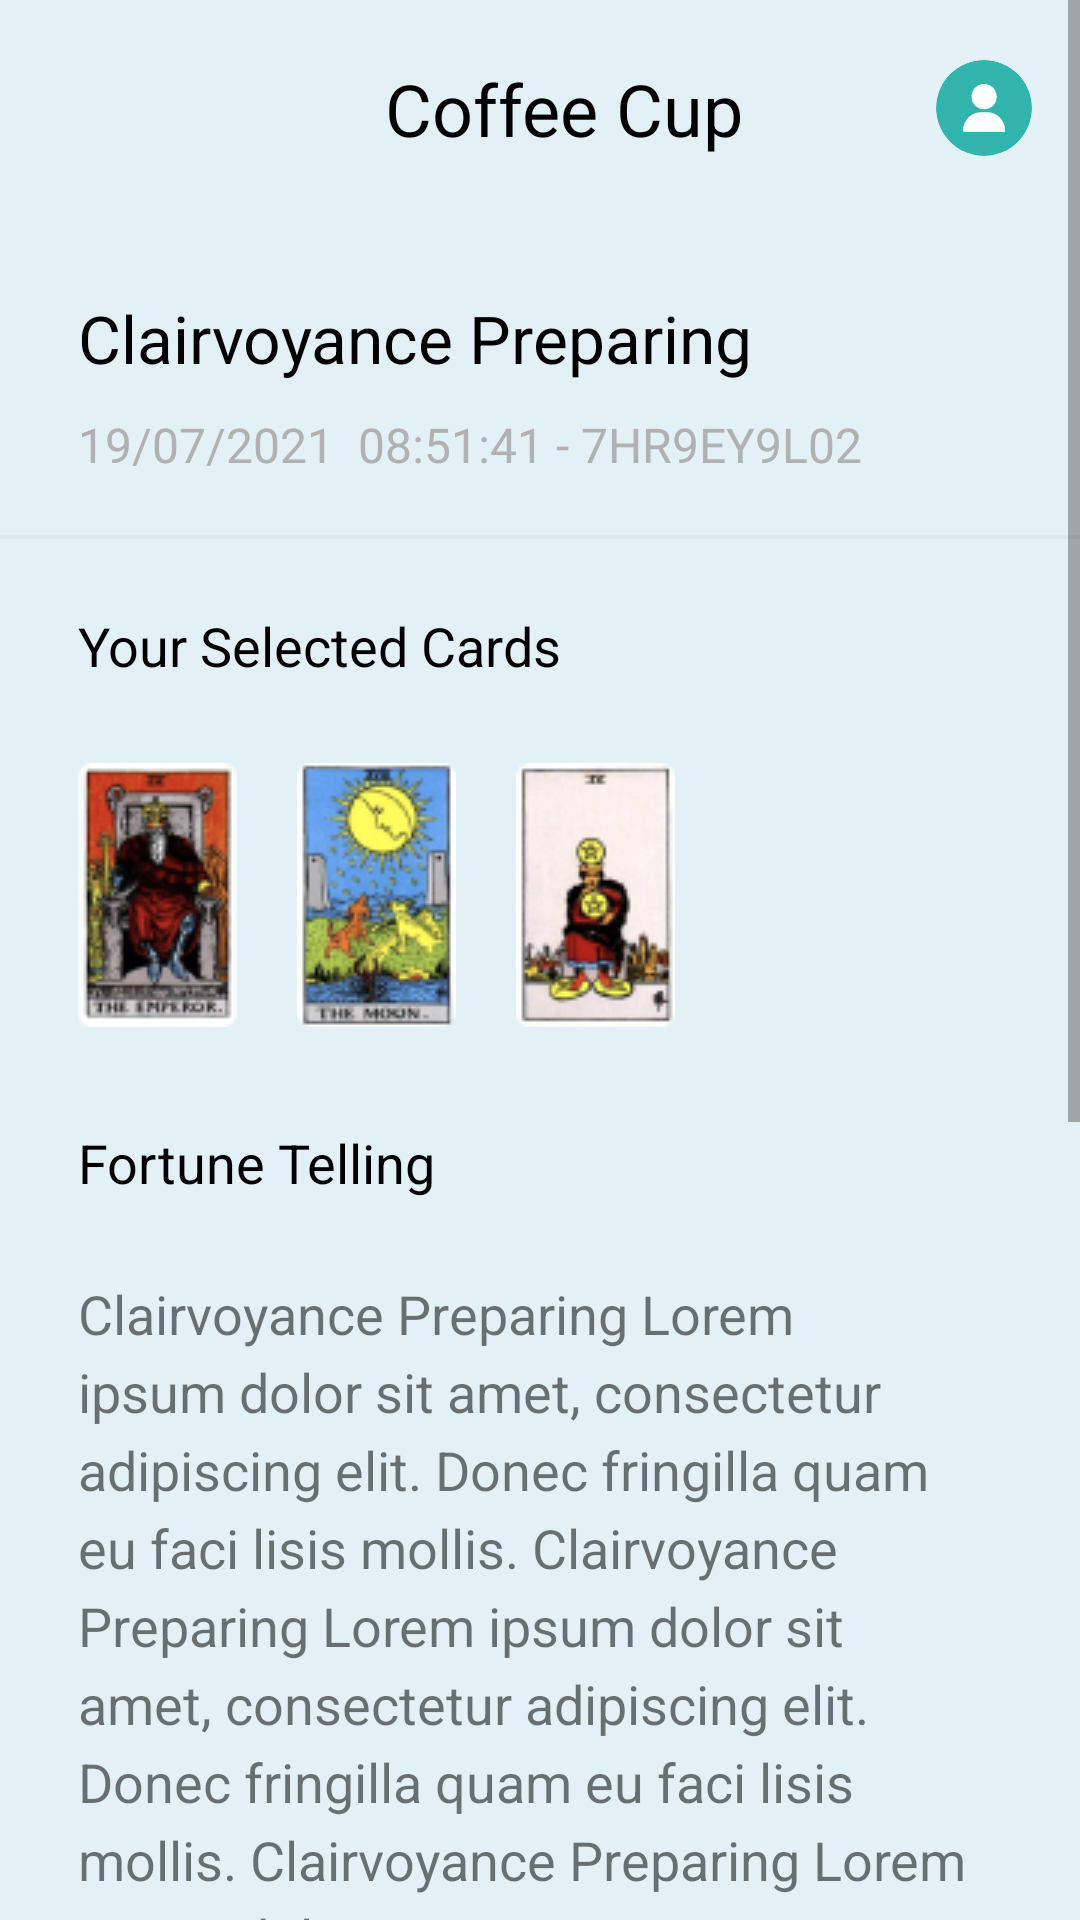

Where icons sit on this 1080 x 1920 app screen, as (x1, y1, x2, y2):
card open: (81, 763, 233, 1027), (297, 763, 456, 1025), (516, 763, 675, 1027)
